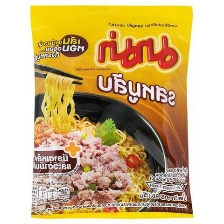snack: (24, 0, 200, 224)
